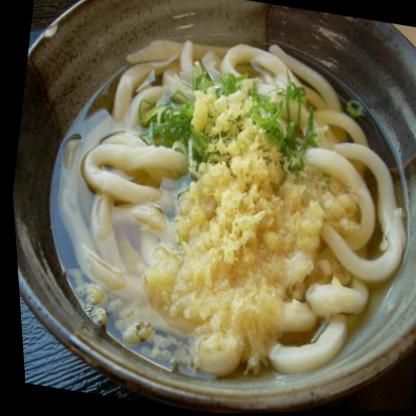Udon: (45, 7, 415, 387)
